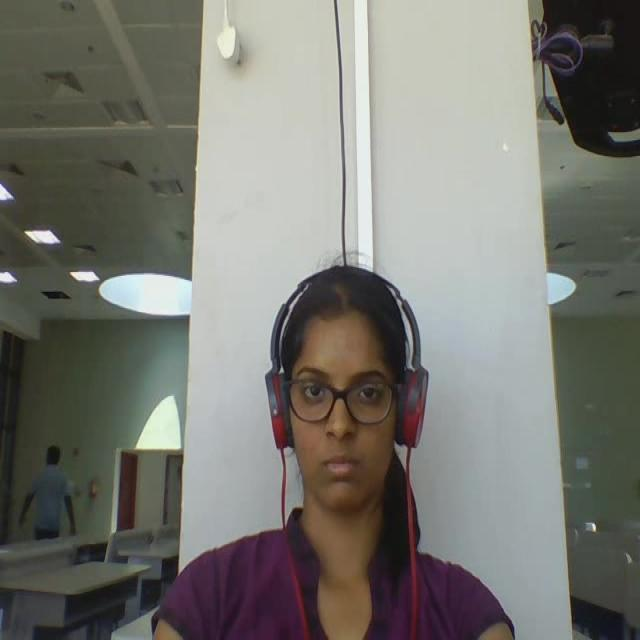Engaged: (255, 240, 443, 545)
